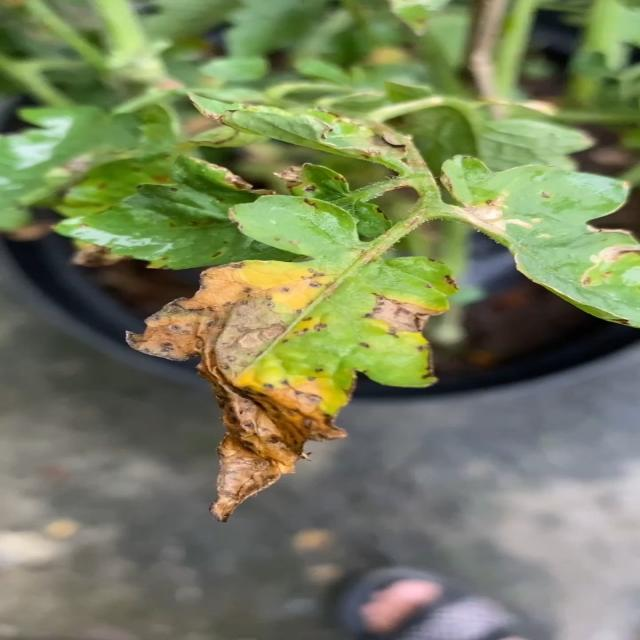Tomato_Late_Blight: (116, 241, 450, 529)
